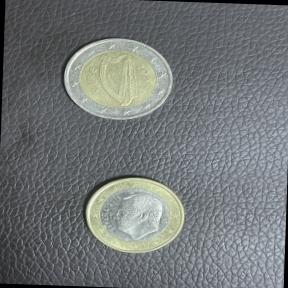1 Euro-B: (78, 169, 190, 258)
2 Euro-B: (54, 32, 180, 128)
